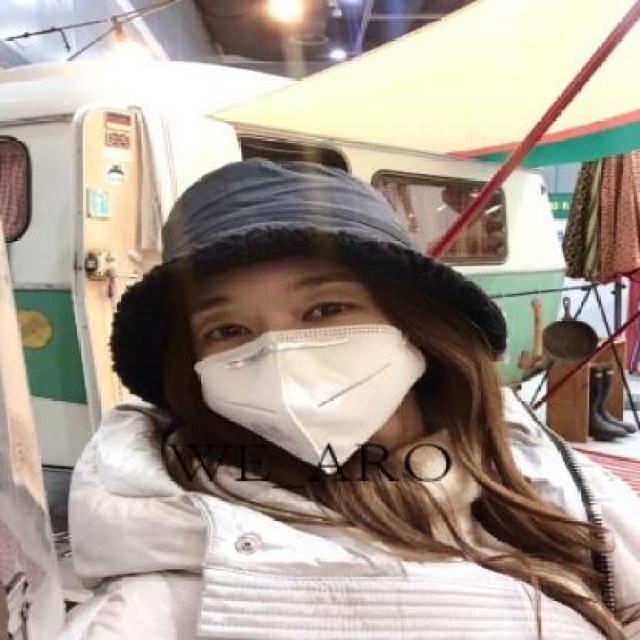hat: (109, 158, 514, 410)
